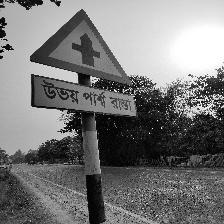Crossroad: (30, 6, 144, 120)
